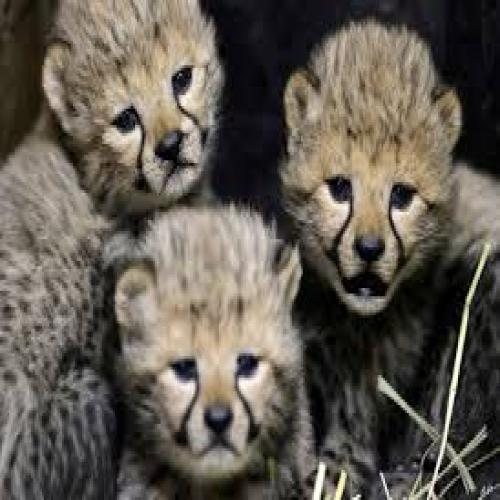cheetah-endangered: (281, 21, 458, 470), (115, 204, 313, 500), (0, 1, 229, 244)
